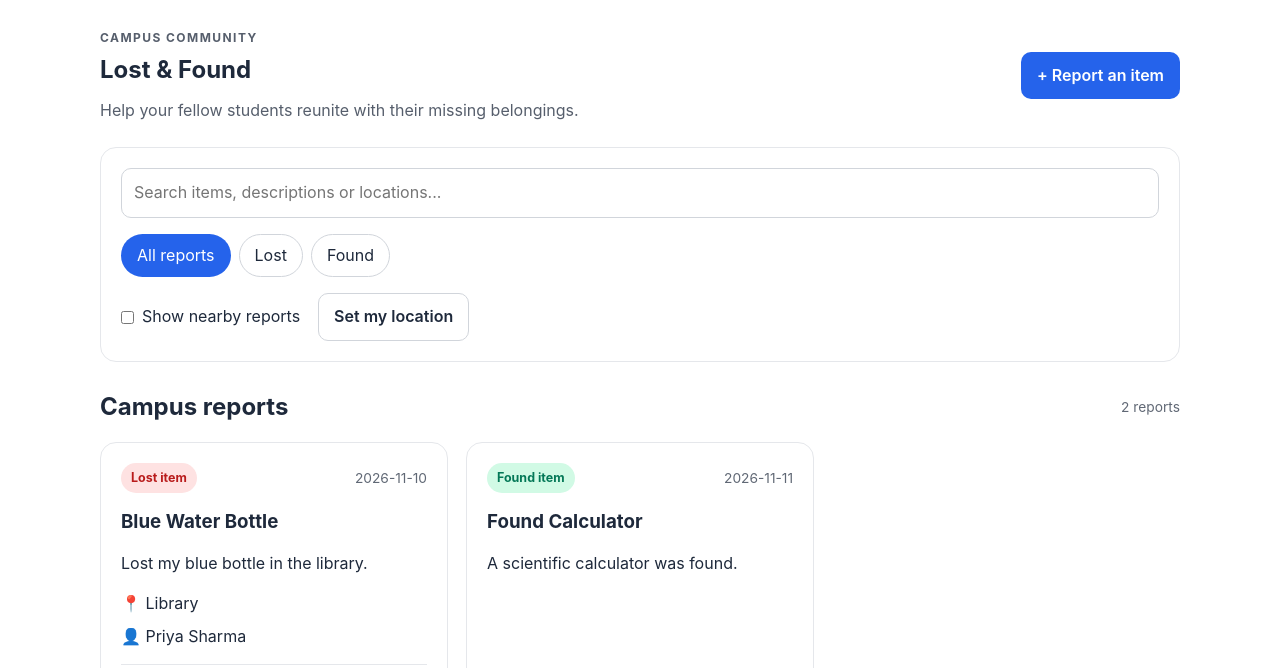
Test: LostFound Page › filters reports by Found status
Click the button "Found": x=350, y=256 [311,234,390,277]
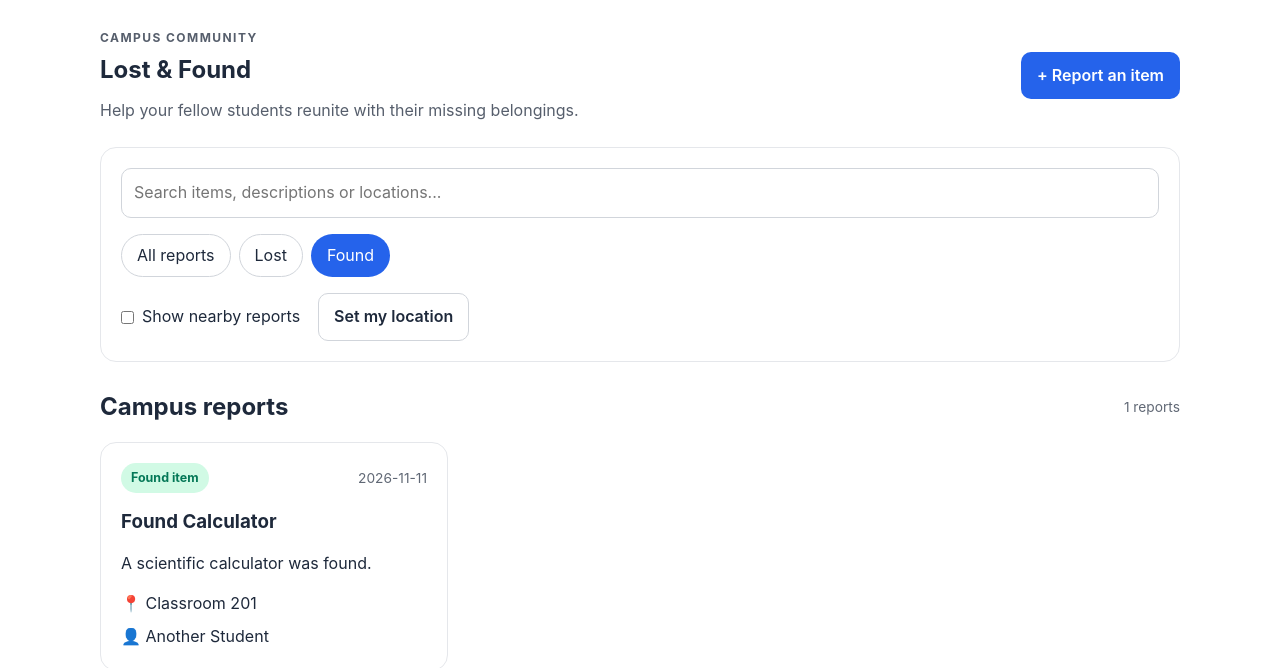
Expected: the heading "Found Calculator" is shown, [121,510,276,533]
Expected: the heading "Blue Water Bottle" is gone
